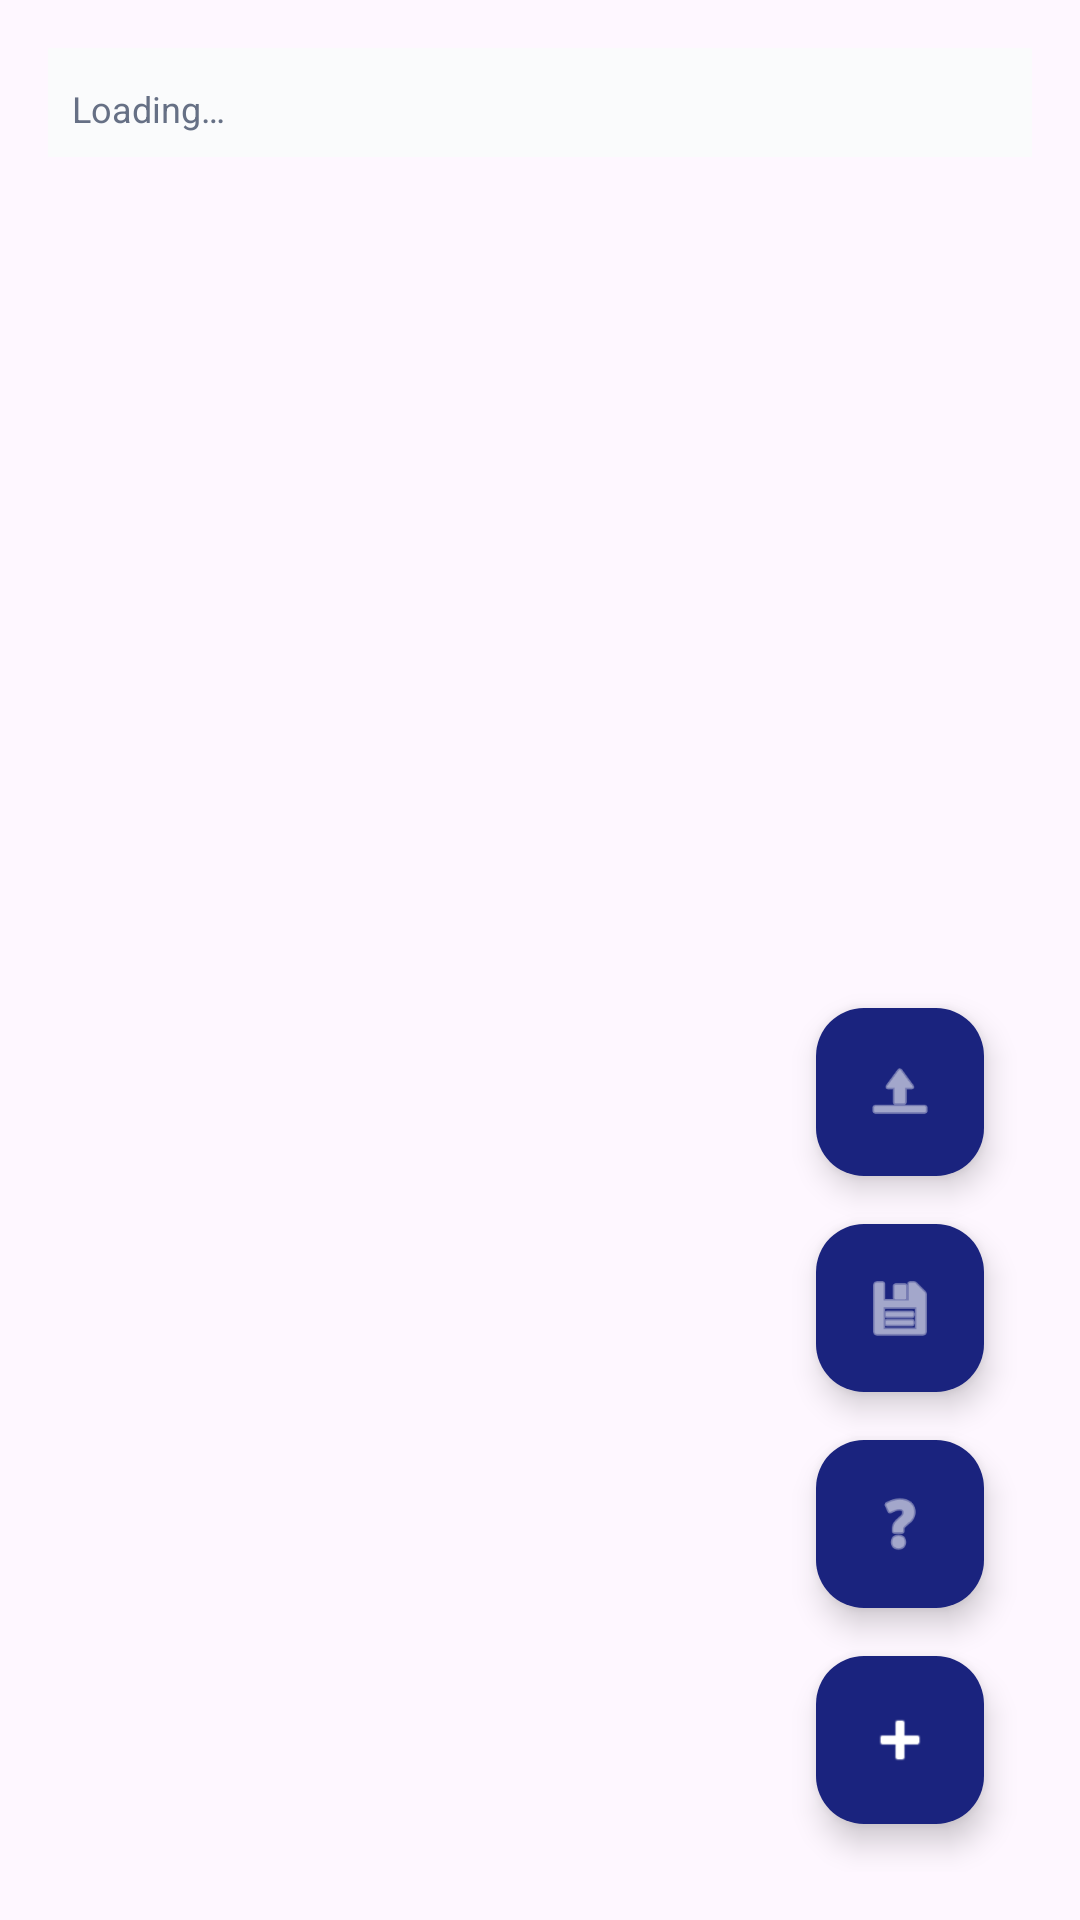

Locate icon controls on the screen. Image size 1080×1920, boxes as (x1, y1, x2, y2).
Add Course: (816, 1656, 984, 1824)
Export Excel: (816, 1224, 984, 1392)
Import Excel: (816, 1008, 984, 1176)
